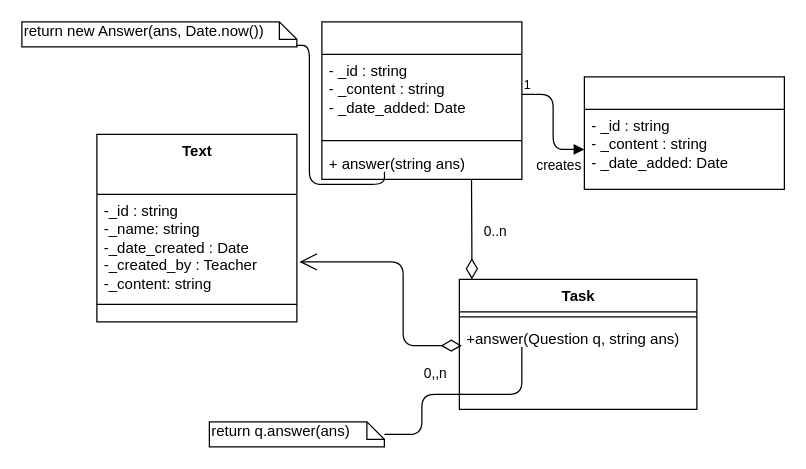
Image size: 806x469. Some labels were removed from this diagram. The shapes that lost their labels are listed below. From the top down, each one's box as (x1, y1, x2, y2) in pixels, then its label:
(321, 21, 522, 179): Question
(583, 76, 784, 189): Answer
